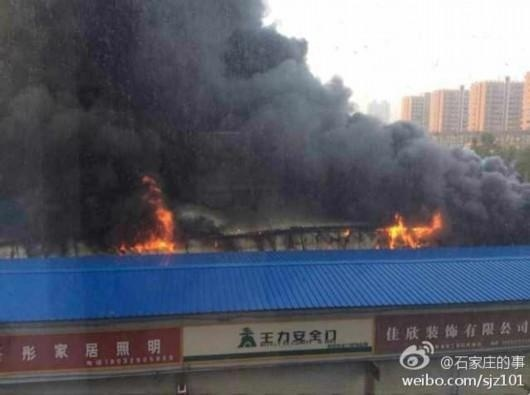fire: (118, 177, 179, 253), (376, 208, 443, 247)
